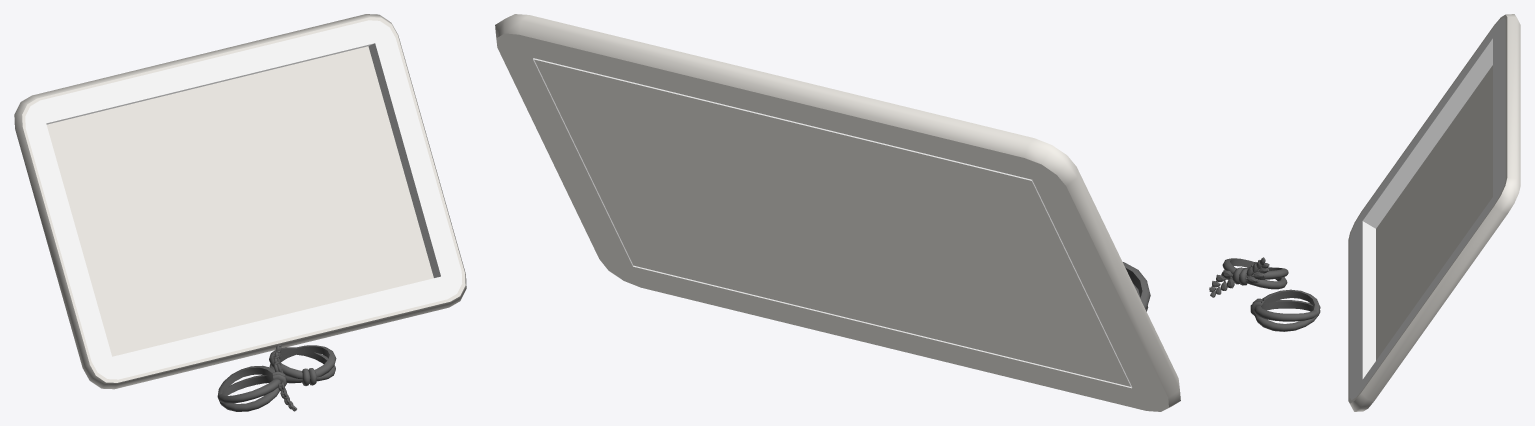
Rendered from prototypes-processed.glb.
3 views of the same model, side by side, from view 1: azimuth 30°, elevation 25°; view 2: azimuth 150°, elevation 25°; view 3: azimuth 270°, elevation 25° (orthographic). The views are drawn at different scales.
Visible parts, largest first — view 1: obj; view 2: obj; view 3: obj.
Boxes of the visible parts, bbox=[...] form: obj: bbox=[14, 14, 466, 411]; obj: bbox=[495, 14, 1180, 411]; obj: bbox=[1209, 14, 1520, 411].
Size of the model in its own units: 25.9 by 15.08 by 18.42.
1 material, 1 textured.
